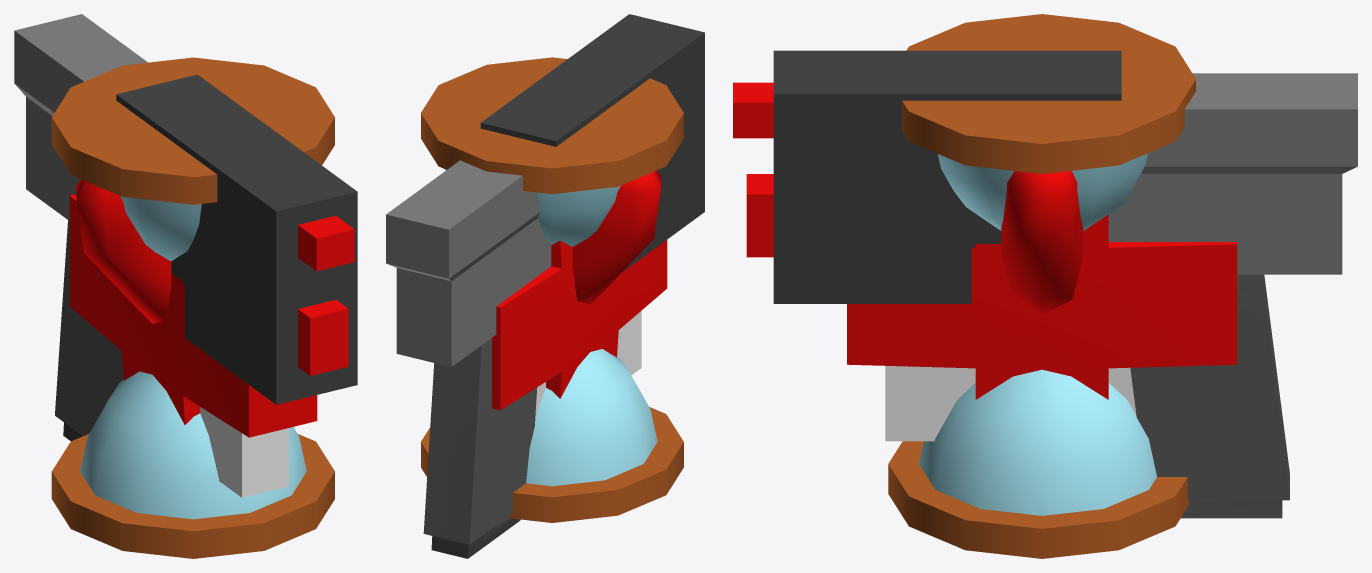
The model's file is CollectiblesSet3.fbx.
3 renders of one model, left to right at view 1: azimuth 30°, elevation 25°; view 2: azimuth 150°, elevation 25°; view 3: azimuth 270°, elevation 25°, orthographic. The views are drawn at different scales.
Visible parts, largest first — view 1: Gun2, HourGlass, HealthPlusRed, Heart, HealthPackRed; view 2: Gun2, HourGlass, HealthPlusRed, Gun1, Heart, HealthPackRed; view 3: Gun2, HourGlass, HealthPlusRed, Gun1, Heart, HealthPackRed.
Boxes of the visible parts, x1,y1,x2,y2 form: Gun2: (14, 14, 357, 441); HourGlass: (51, 57, 334, 558); HealthPlusRed: (69, 194, 317, 437); Heart: (76, 179, 171, 323); HealthPackRed: (71, 194, 289, 497); Gun2: (386, 14, 704, 558); HourGlass: (421, 57, 683, 522); HealthPlusRed: (492, 240, 667, 410); Gun1: (429, 338, 536, 544); Heart: (446, 169, 661, 304); HealthPackRed: (497, 242, 641, 419); Gun2: (733, 50, 1357, 514); HourGlass: (888, 14, 1195, 558); HealthPlusRed: (847, 214, 1237, 399); Gun1: (1130, 276, 1289, 518); Heart: (1001, 171, 1082, 314); HealthPackRed: (885, 242, 1237, 441).
Bounding box in the file's own units: 1.33 × 2.07 × 2.7.
